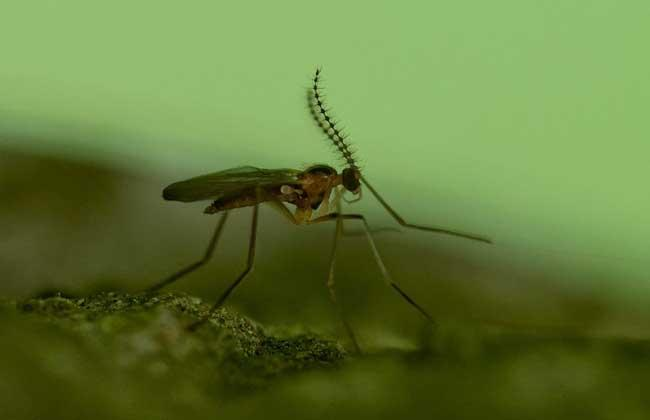Cecidomyiidae: (135, 60, 499, 336)
